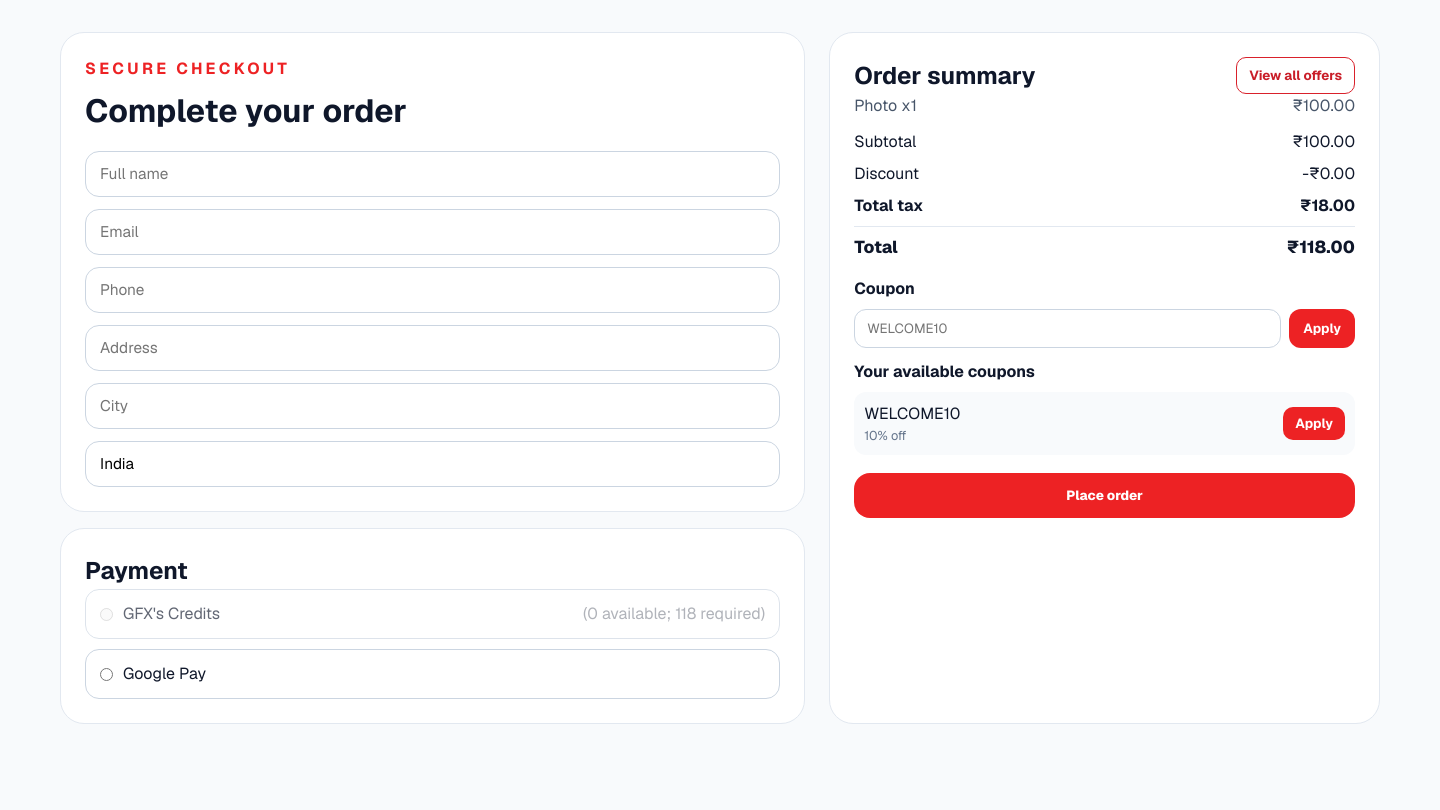
CheckoutPage manual Google Pay submission › opens all active customer offers from checkout
Click the button "View all offers". click: (1296, 76)
box: [1236,57,1355,94]
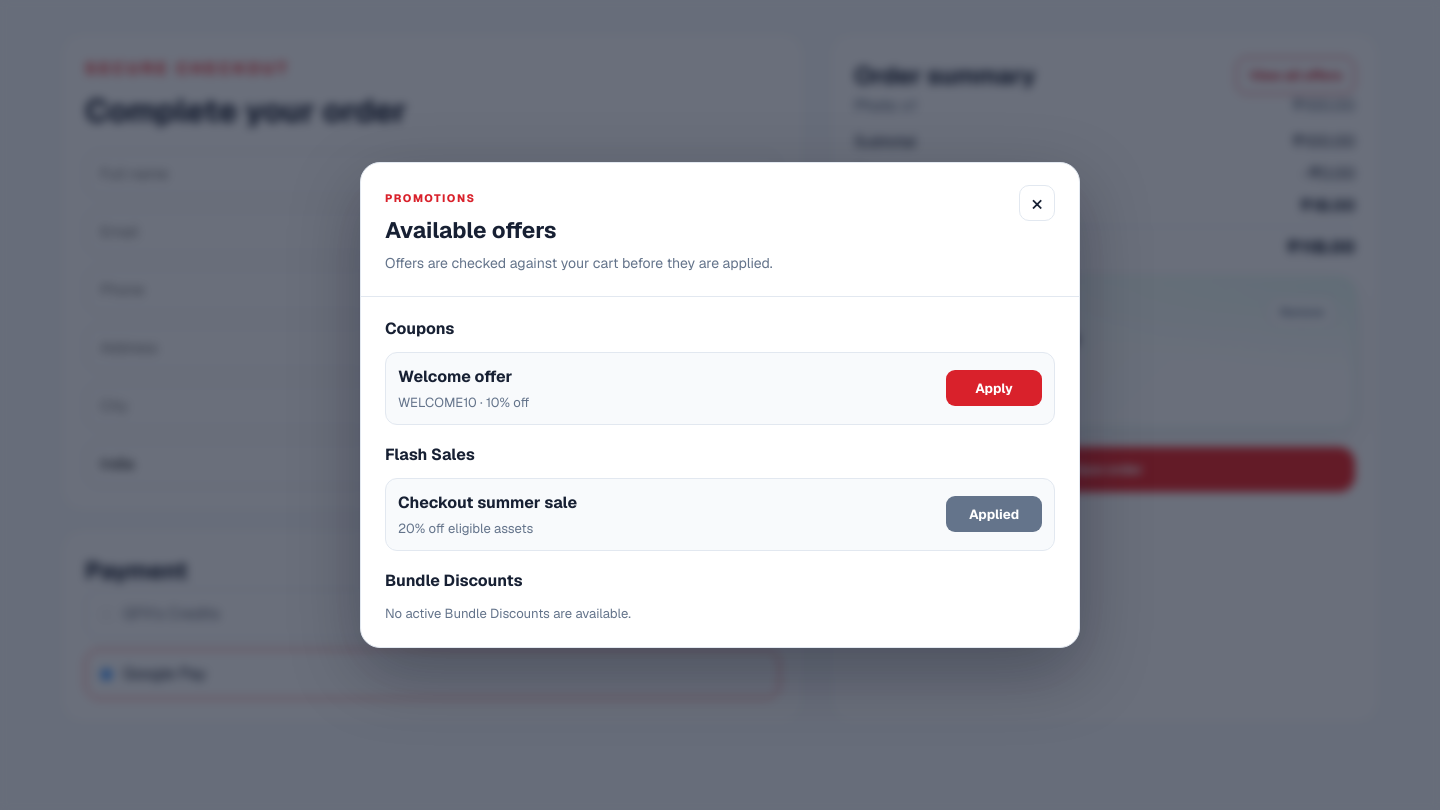
Expected: the text "WELCOME10 · 10% off" is shown, [398,393,529,412]
Expected: the text "Checkout summer sale" is shown, [398,491,577,515]
